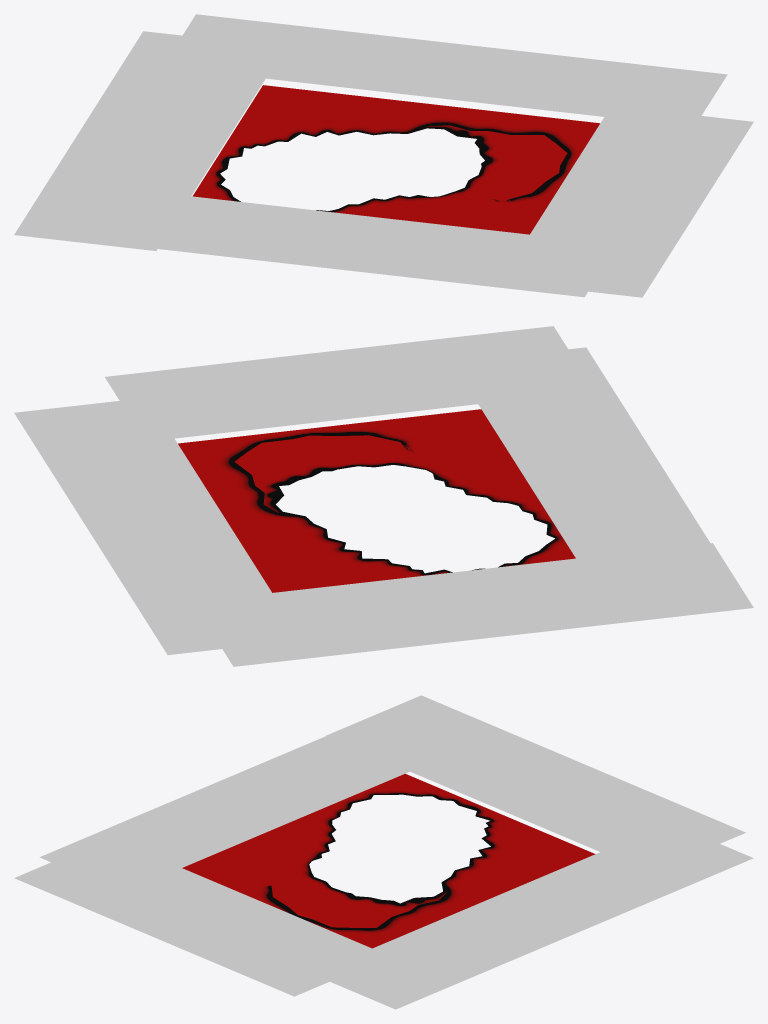
Rendered from WhiteBorders.fbx.
The picture shows the model from 3 angles, top to bottom: view 1: azimuth 30°, elevation 25°; view 2: azimuth 150°, elevation 25°; view 3: azimuth 270°, elevation 25°; orthographic projection. The views are drawn at different scales.
Parts seen in each view (by area): view 1: Whitebox_Quad (2), Whitebox_Quad (3), Whitebox_Quad (4), Whitebox_Quad (1), Water Edge SDF (1), Water Edge SDF; view 2: Whitebox_Quad (2), Whitebox_Quad (4), Whitebox_Quad (3), Whitebox_Quad (1), Water Edge SDF (1), Water Edge SDF; view 3: Whitebox_Quad (2), Whitebox_Quad (3), Whitebox_Quad (4), Whitebox_Quad (1), Water Edge SDF (1), Water Edge SDF.
Boxes of the visible parts, x1,y1,x2,y2 form: Whitebox_Quad (2): (53, 184, 617, 297); Whitebox_Quad (3): (182, 14, 727, 116); Whitebox_Quad (4): (14, 31, 285, 250); Whitebox_Quad (1): (530, 105, 753, 297); Water Edge SDF (1): (193, 116, 567, 234); Water Edge SDF: (193, 85, 599, 214); Whitebox_Quad (2): (452, 347, 739, 604); Whitebox_Quad (4): (192, 543, 753, 666); Whitebox_Quad (3): (14, 401, 271, 654); Whitebox_Quad (1): (105, 326, 567, 441); Water Edge SDF (1): (234, 409, 575, 583); Water Edge SDF: (178, 409, 478, 592); Whitebox_Quad (2): (39, 706, 480, 892); Whitebox_Quad (3): (330, 844, 753, 1009); Whitebox_Quad (4): (326, 695, 745, 872); Whitebox_Quad (1): (14, 862, 389, 996); Water Edge SDF (1): (182, 774, 556, 927); Water Edge SDF: (188, 774, 595, 948).
Bounding box in the file's own units: 396 × 3.7 × 394.
Materials: 3 (2 with a texture image).
